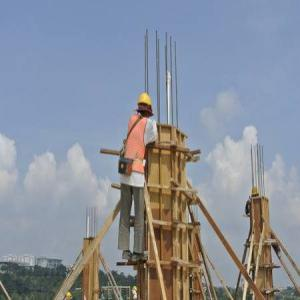yellow: (138, 94, 153, 118)
